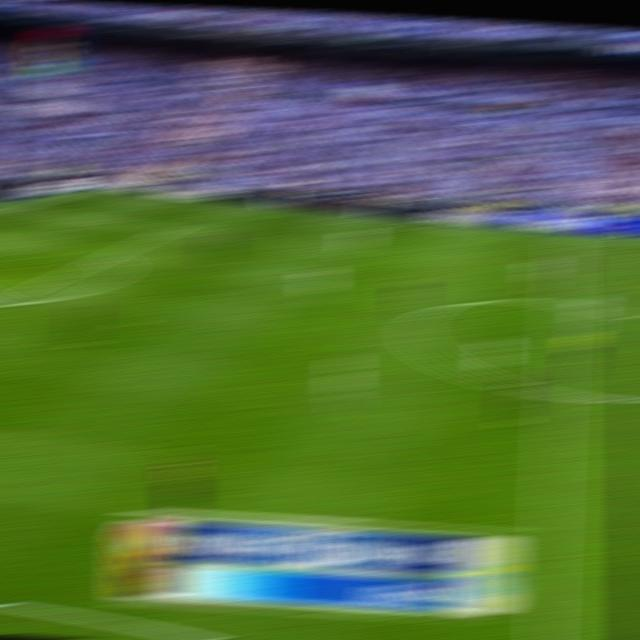halfcircle_bottom: (541, 379, 570, 405)
halfcircle_top: (546, 292, 573, 313)
midline_top_intersection: (551, 231, 576, 243)
top_arc_area_intersection: (95, 250, 119, 263)
